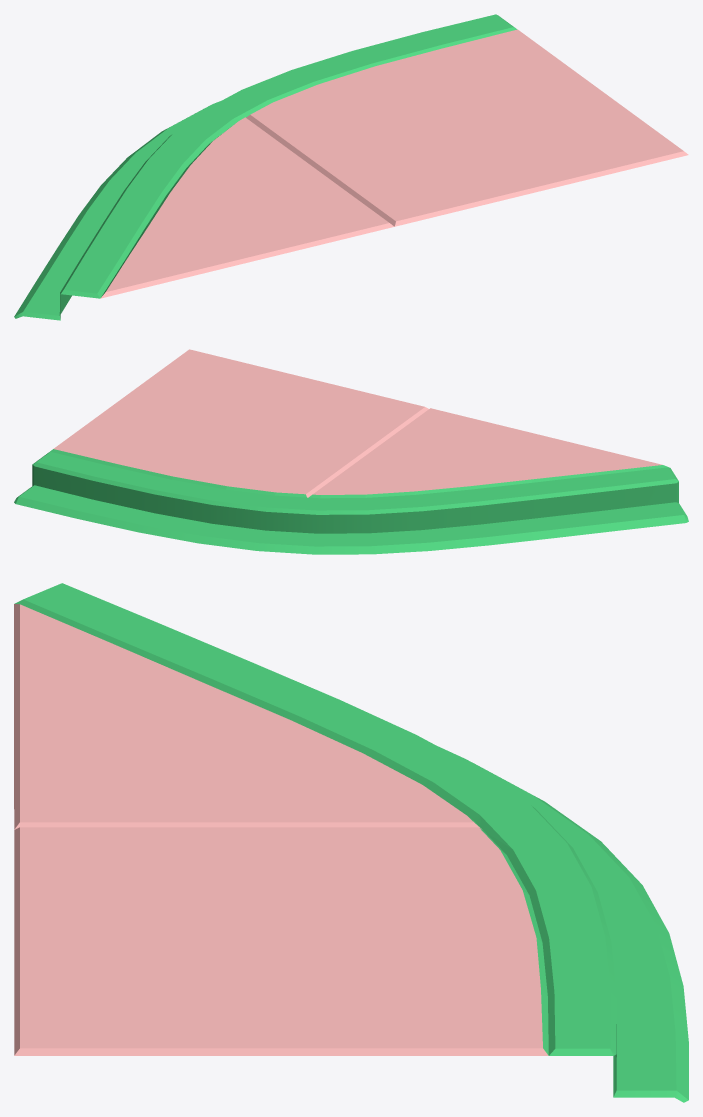
The model's file is mesh_Paving_Outer45Left_v1.3.fbx.
3 views of the same model, one above another, from view 1: azimuth 30°, elevation 25°; view 2: azimuth 150°, elevation 25°; view 3: azimuth 270°, elevation 25° (orthographic). The views are drawn at different scales.
Parts seen in each view (by area): view 1: mesh_Paving_Outer45Left; view 2: mesh_Paving_Outer45Left; view 3: mesh_Paving_Outer45Left.
Boxes of the visible parts, x1,y1,x2,y2 form: mesh_Paving_Outer45Left: (14,14,688,320); mesh_Paving_Outer45Left: (14,349,688,554); mesh_Paving_Outer45Left: (14,583,688,1102).
Size of the model in its own units: 218 by 10.83 by 126.
